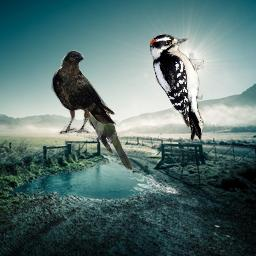Crow: (51, 50, 116, 134)
Cuckoo: (80, 93, 135, 171)
Woodpecker: (150, 34, 204, 141)
